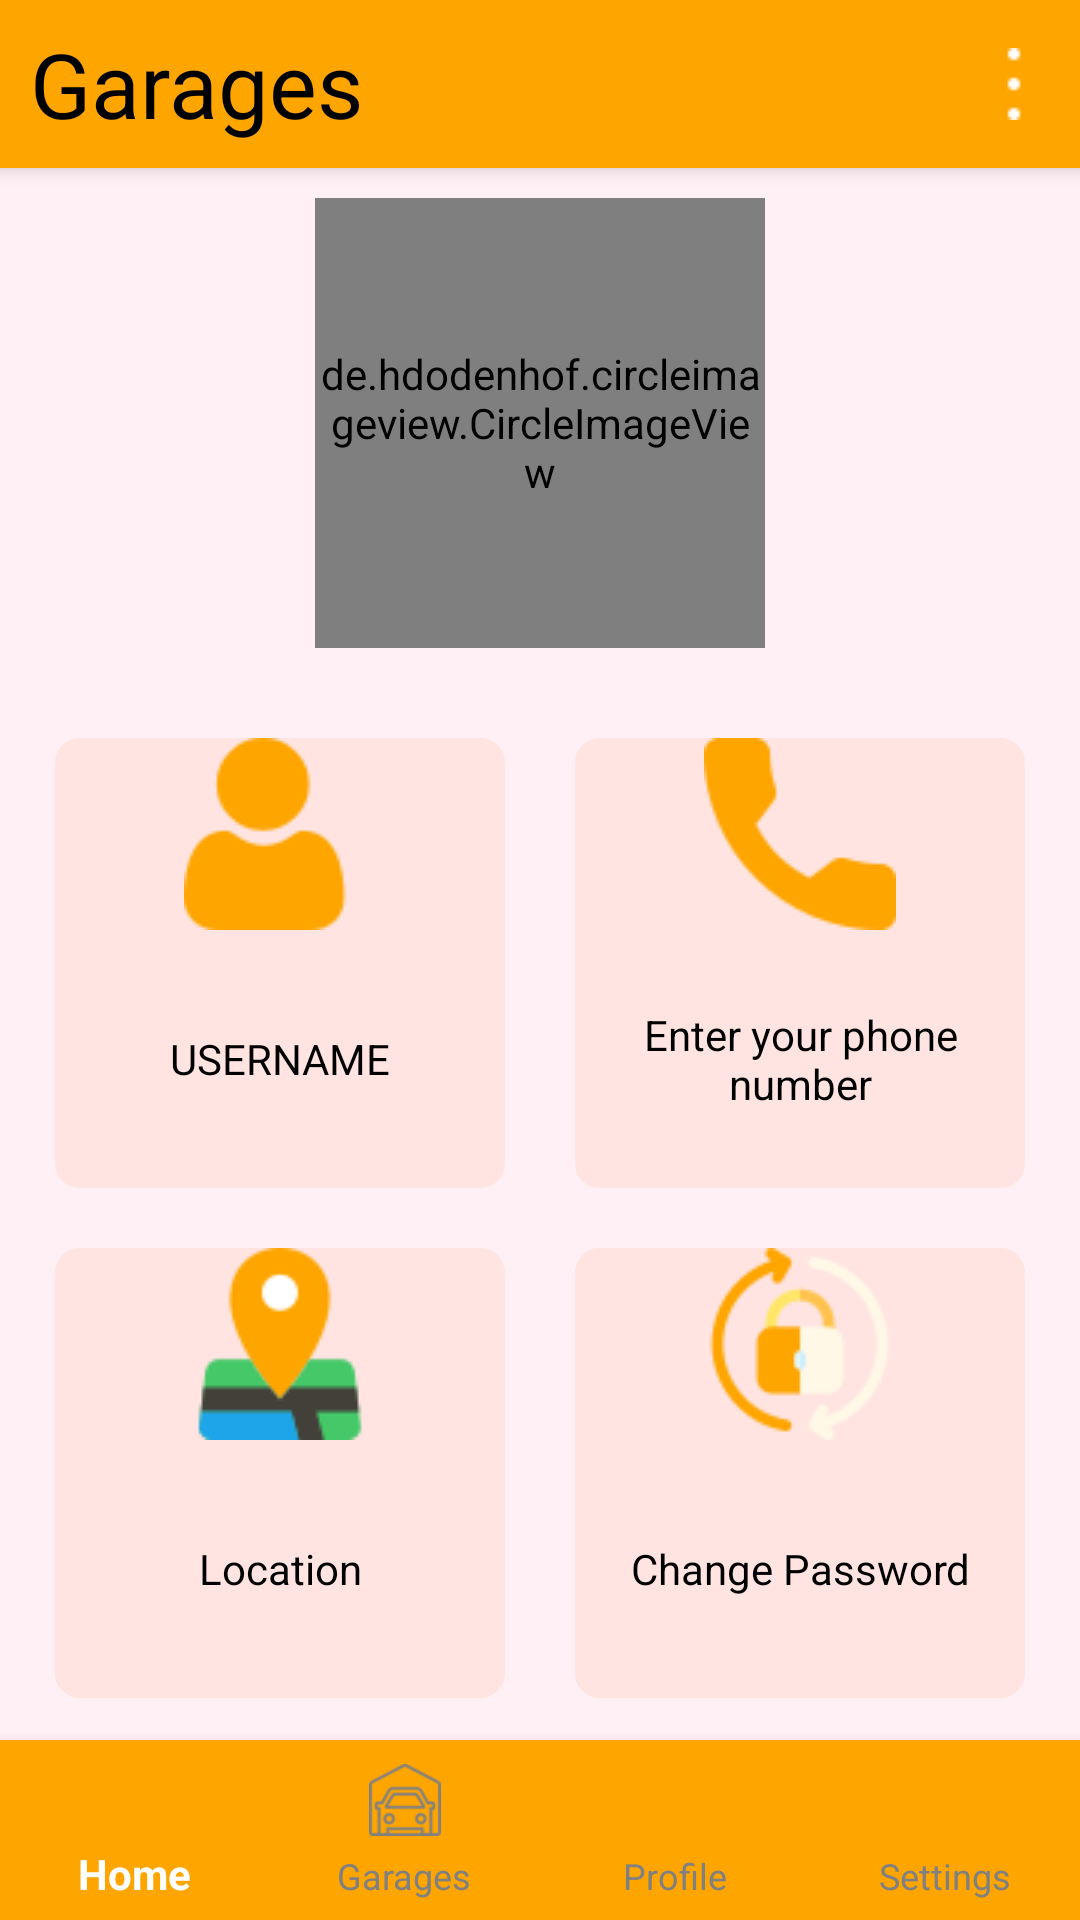

Locate icon controls on the screen. Image size 1080x1920, boxes as bbox=[x1, y1, x2, y2].
Menu Icon: bbox=[1007, 48, 1021, 120]
